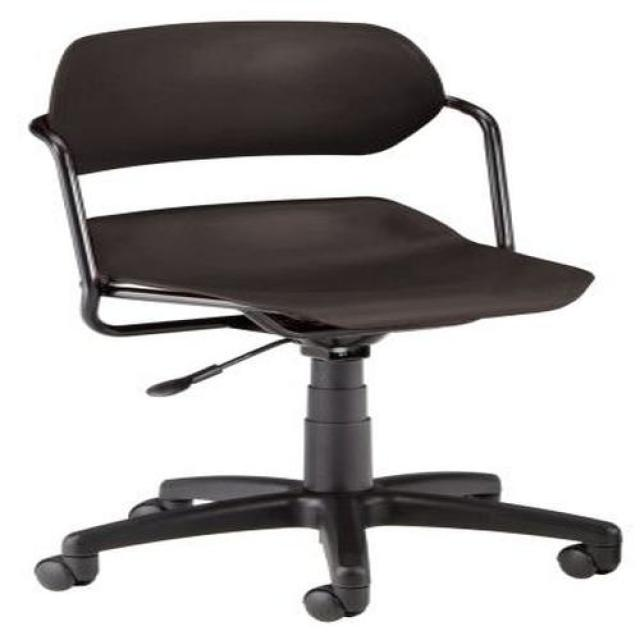swivelchair: (29, 22, 618, 626)
